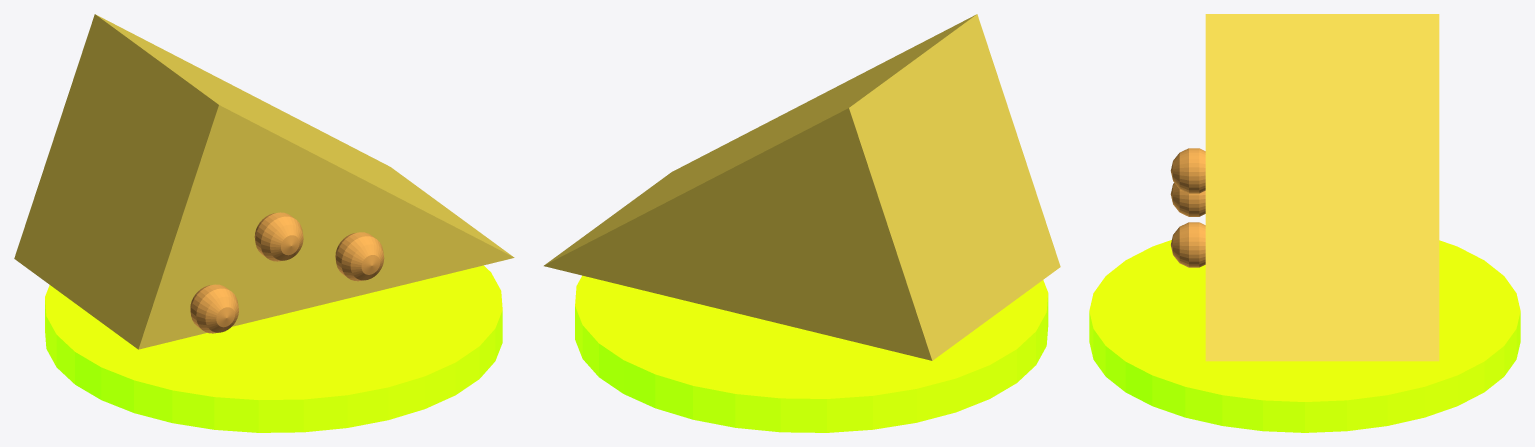
Rendered from food_cheese_wedge.glb.
The picture shows the model from 3 angles, left to right: view 1: azimuth 30°, elevation 25°; view 2: azimuth 150°, elevation 25°; view 3: azimuth 270°, elevation 25°; orthographic projection. The views are drawn at different scales.
Visible parts, largest first — view 1: 01_17_Popular_Food_Cheese_Wedge_part_01, 01_17_Popular_Food_Cheese_Wedge_ROOT_base, 01_17_Popular_Food_Cheese_Wedge_part_02, 01_17_Popular_Food_Cheese_Wedge_part_03, 01_17_Popular_Food_Cheese_Wedge_part_04; view 2: 01_17_Popular_Food_Cheese_Wedge_part_01, 01_17_Popular_Food_Cheese_Wedge_ROOT_base; view 3: 01_17_Popular_Food_Cheese_Wedge_part_01, 01_17_Popular_Food_Cheese_Wedge_ROOT_base, 01_17_Popular_Food_Cheese_Wedge_part_02, 01_17_Popular_Food_Cheese_Wedge_part_04, 01_17_Popular_Food_Cheese_Wedge_part_03.
Boxes of the visible parts, <box> form: 01_17_Popular_Food_Cheese_Wedge_part_01: <box>14,14,514,349</box>; 01_17_Popular_Food_Cheese_Wedge_ROOT_base: <box>45,265,502,432</box>; 01_17_Popular_Food_Cheese_Wedge_part_02: <box>254,212,303,261</box>; 01_17_Popular_Food_Cheese_Wedge_part_03: <box>190,284,238,333</box>; 01_17_Popular_Food_Cheese_Wedge_part_04: <box>335,232,384,281</box>; 01_17_Popular_Food_Cheese_Wedge_part_01: <box>544,14,1060,360</box>; 01_17_Popular_Food_Cheese_Wedge_ROOT_base: <box>575,275,1048,432</box>; 01_17_Popular_Food_Cheese_Wedge_part_01: <box>1205,14,1439,361</box>; 01_17_Popular_Food_Cheese_Wedge_ROOT_base: <box>1089,240,1520,432</box>; 01_17_Popular_Food_Cheese_Wedge_part_02: <box>1170,148,1205,193</box>; 01_17_Popular_Food_Cheese_Wedge_part_04: <box>1171,222,1205,267</box>; 01_17_Popular_Food_Cheese_Wedge_part_03: <box>1170,183,1205,216</box>.
Size of the model in its own units: 0.76 by 0.5414 by 0.76.
